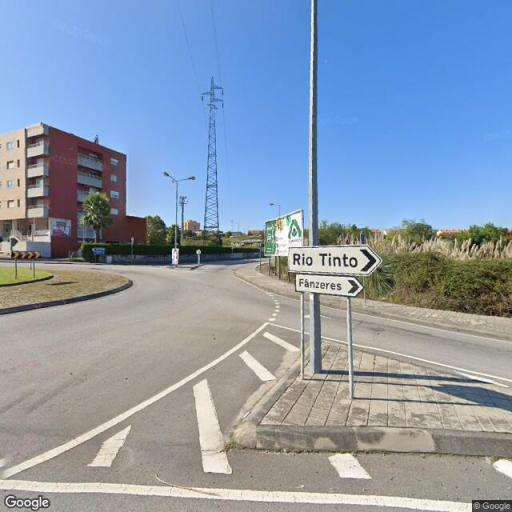ss_4: (201, 74, 228, 248)
